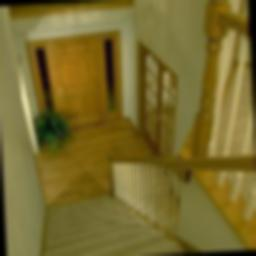Escaleras: (9, 148, 255, 256)
Matera: (32, 110, 72, 152)
Puerta: (134, 41, 183, 155), (52, 38, 103, 128)
